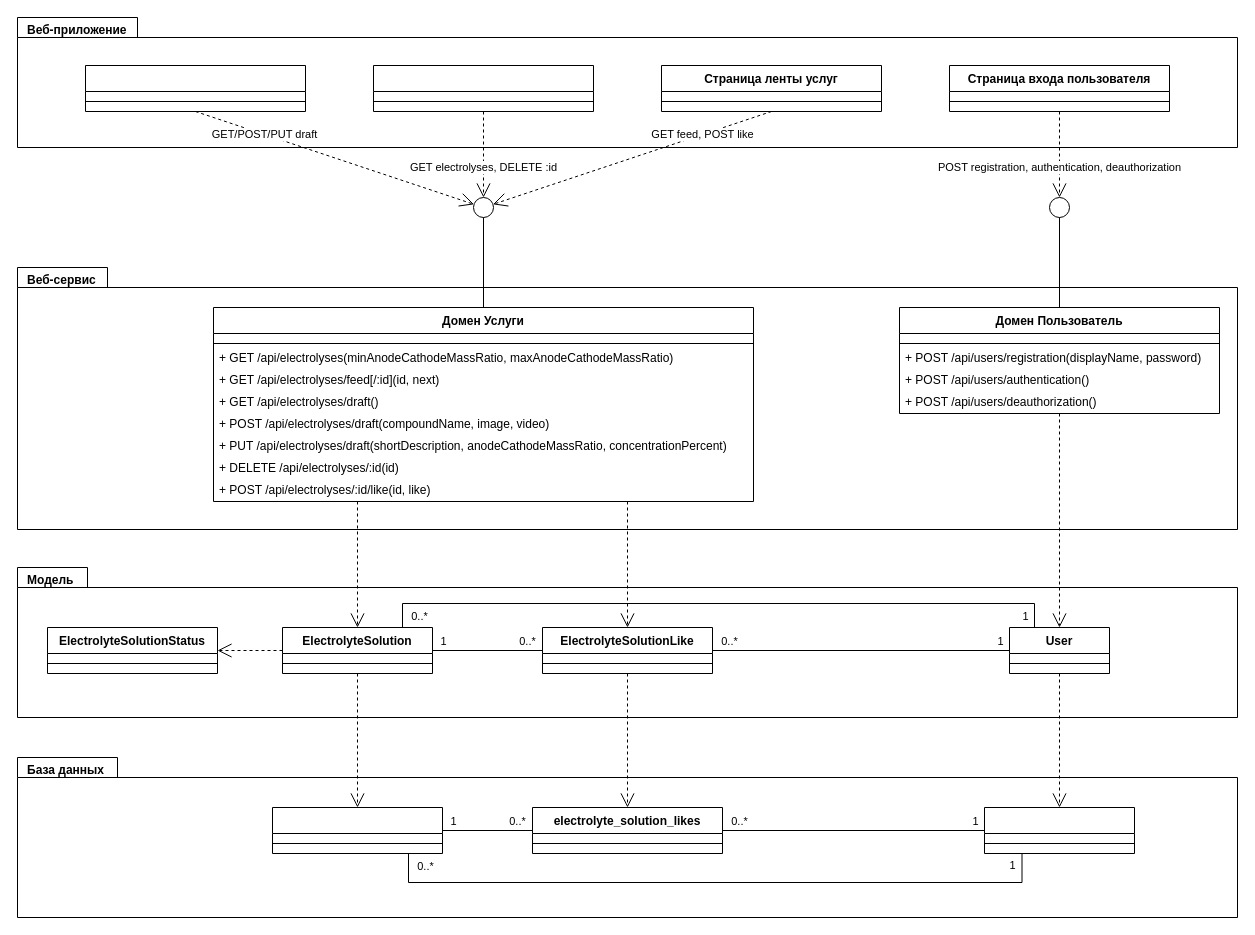
Image size: 1255x935. Some labels were removed from this diagram. Here are the shapes that lost their labels. From the top down, the centre of each, then its label:
At (x=195, y=88): "Страница добавления услуг".
At (x=483, y=88): "Страница списка услуг".
At (x=483, y=207): "API Услуг".
At (x=1059, y=207): "API Пользователей".
At (x=357, y=830): "electrolyte_solutions".
At (x=1059, y=830): "electrolyses_users".
